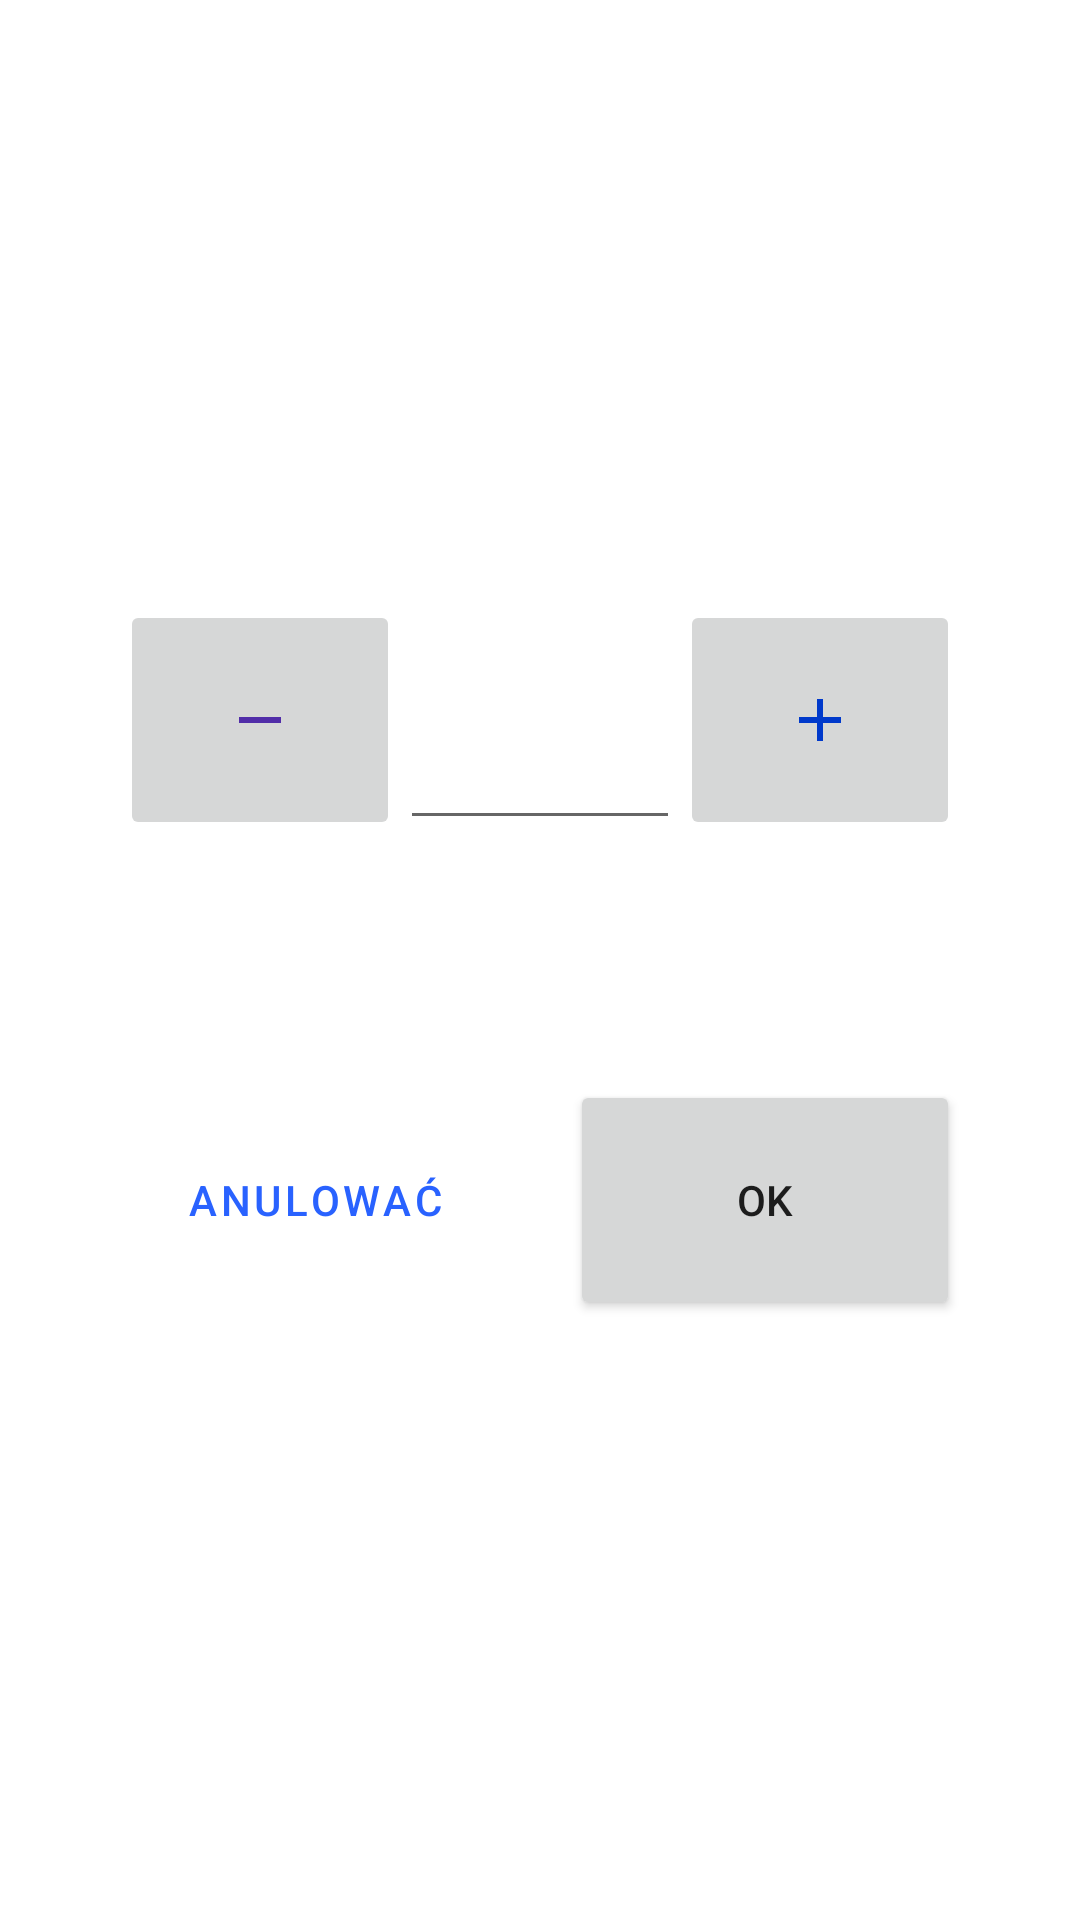

Named icons in this screenshot (1080 × 1920) and their bounding boxes, (x1, y1, x2, y2):
add: (692, 618, 948, 822)
